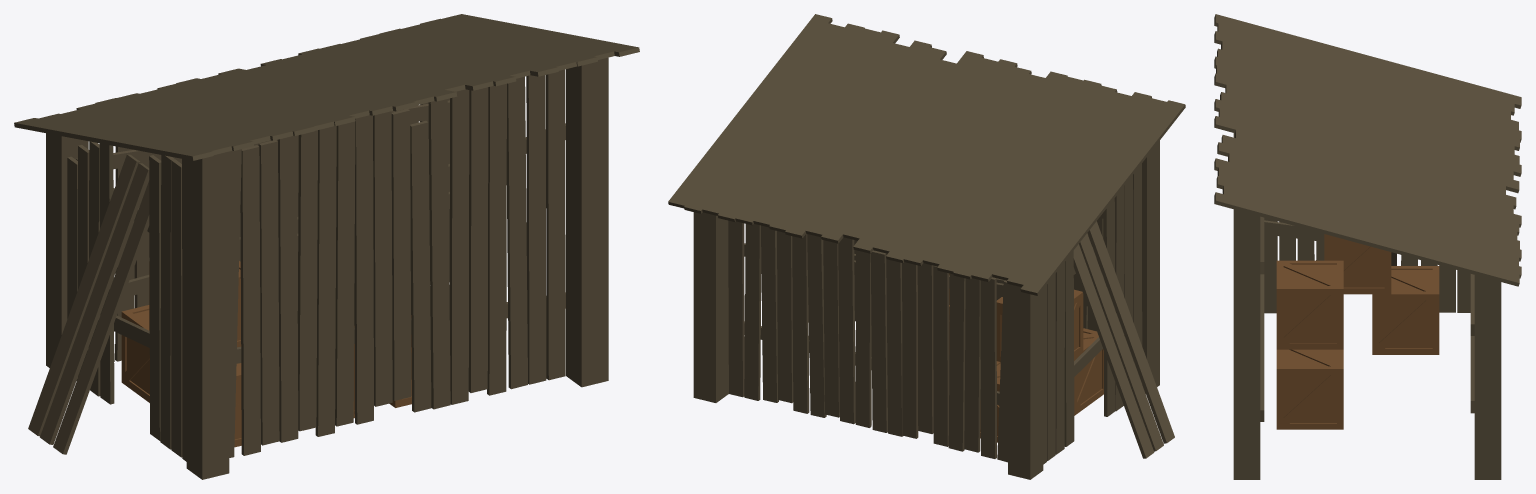
The model's file is Storage.fbx.
3 views of the same model, side by side, from view 1: azimuth 30°, elevation 25°; view 2: azimuth 150°, elevation 25°; view 3: azimuth 270°, elevation 25° (orthographic). The views are drawn at different scales.
Visible parts, largest first — view 1: Storage; view 2: Storage; view 3: Storage.
Boxes of the visible parts, x1,y1,x2,y2 form: Storage: [14, 14, 639, 479]; Storage: [668, 14, 1185, 479]; Storage: [1214, 14, 1521, 479].
Size of the model in its own units: 373 by 238 by 229.
